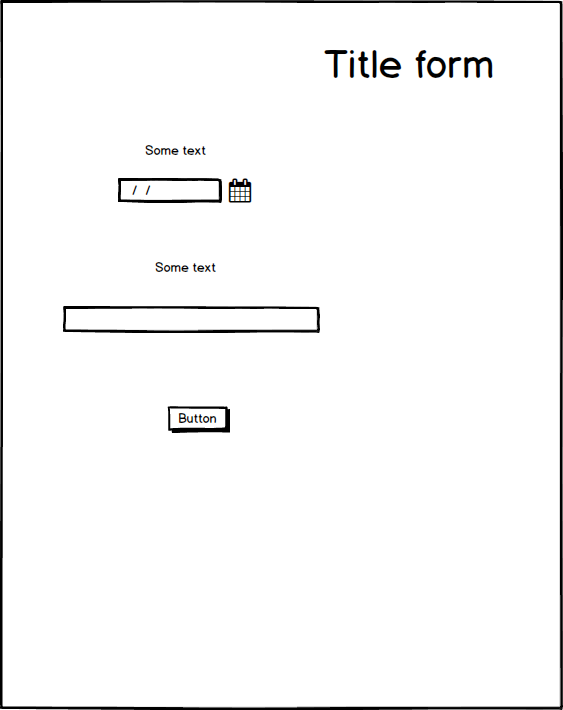button: (162, 399, 238, 442)
date_picker: (114, 173, 256, 211)
h1: (315, 42, 499, 88)
input: (56, 301, 326, 337)
label: (146, 256, 257, 288), (138, 137, 215, 162)
